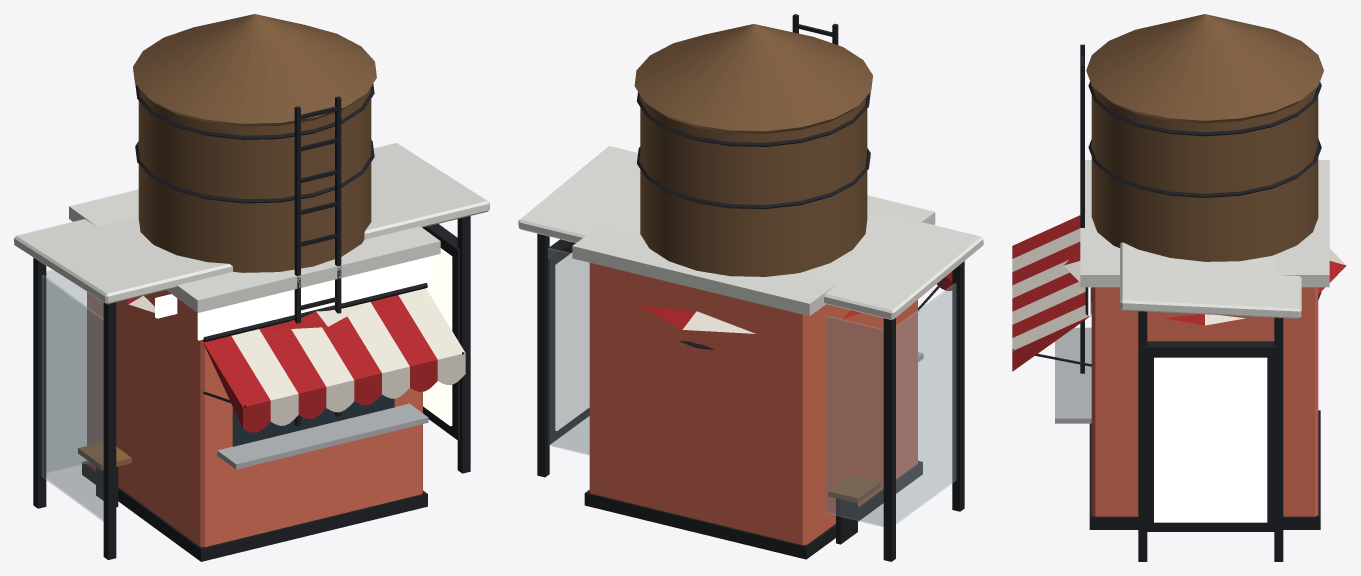
File: street_kit.glb
The picture shows the model from 3 angles, left to right: view 1: azimuth 30°, elevation 25°; view 2: azimuth 150°, elevation 25°; view 3: azimuth 270°, elevation 25°; orthographic projection. The views are drawn at different scales.
Visible parts, largest first — view 1: kiosk_mesh, water_tank_mesh, bus_shelter_mesh, cafe_set_mesh; view 2: kiosk_mesh, bus_shelter_mesh, water_tank_mesh, cafe_set_mesh; view 3: water_tank_mesh, kiosk_mesh, bus_shelter_mesh, cafe_set_mesh.
Boxes of the visible parts, x1,y1,x2,y2 form: kiosk_mesh: (69,189,465,561); water_tank_mesh: (133,14,376,426); bus_shelter_mesh: (14,143,489,559); cafe_set_mesh: (127,295,362,330); kiosk_mesh: (572,195,952,559); bus_shelter_mesh: (518,146,983,561); water_tank_mesh: (634,14,872,349); cafe_set_mesh: (638,305,861,333); water_tank_mesh: (1080,14,1323,373); kiosk_mesh: (1012,160,1329,529); bus_shelter_mesh: (1120,242,1301,561); cafe_set_mesh: (1063,248,1346,325).
Size of the model in its own units: 3.8 by 4.56 by 2.95.
